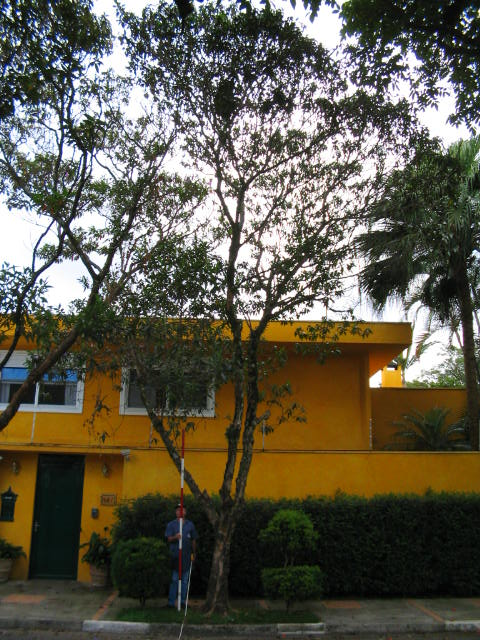crown: (112, 6, 453, 317)
stem: (202, 515, 248, 620)
stick: (171, 429, 191, 610)
tree: (108, 5, 456, 620)
